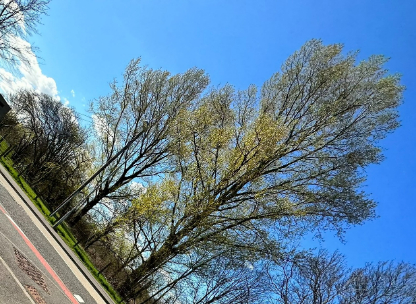tree: (130, 38, 404, 304), (54, 52, 217, 231), (17, 89, 80, 183)
